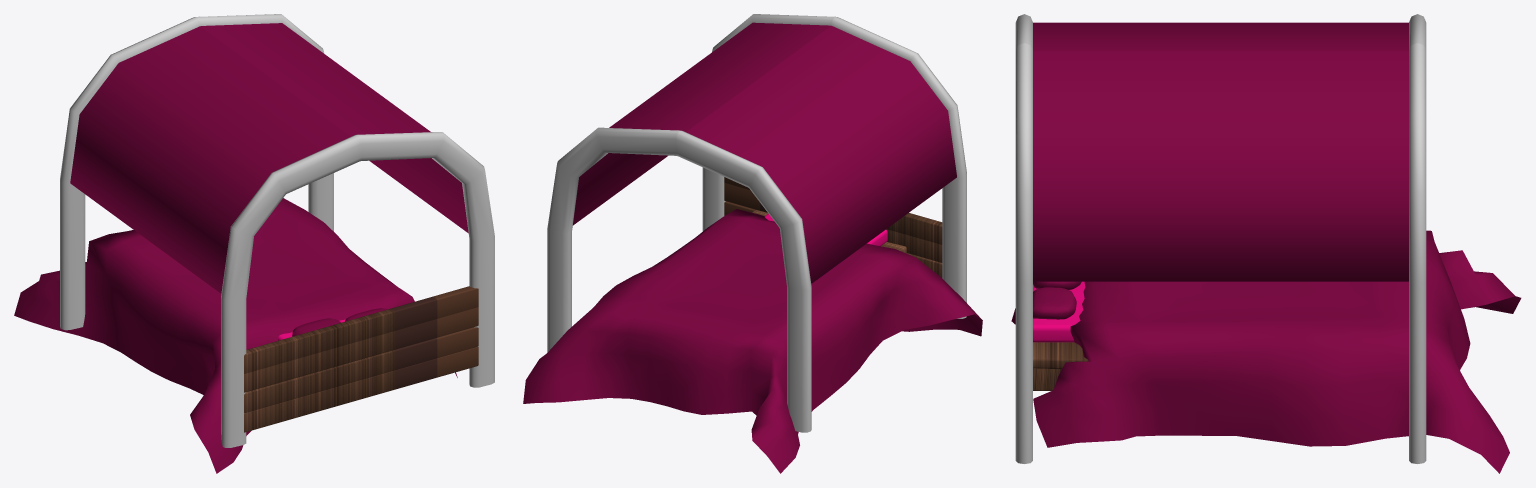
The model's file is Pat.fbx.
3 views of the same model, side by side, from view 1: azimuth 30°, elevation 25°; view 2: azimuth 150°, elevation 25°; view 3: azimuth 270°, elevation 25° (orthographic). The views are drawn at different scales.
Visible parts, largest first — view 1: Plank.001; view 2: Plank.001; view 3: Plank.001.
Part boxes in pixels (box(x1,y1,x2,y2)): Plank.001: box(14, 14, 494, 473); Plank.001: box(523, 14, 982, 473); Plank.001: box(1011, 14, 1521, 473).
Size of the model in its own units: 131 by 129 by 163.
